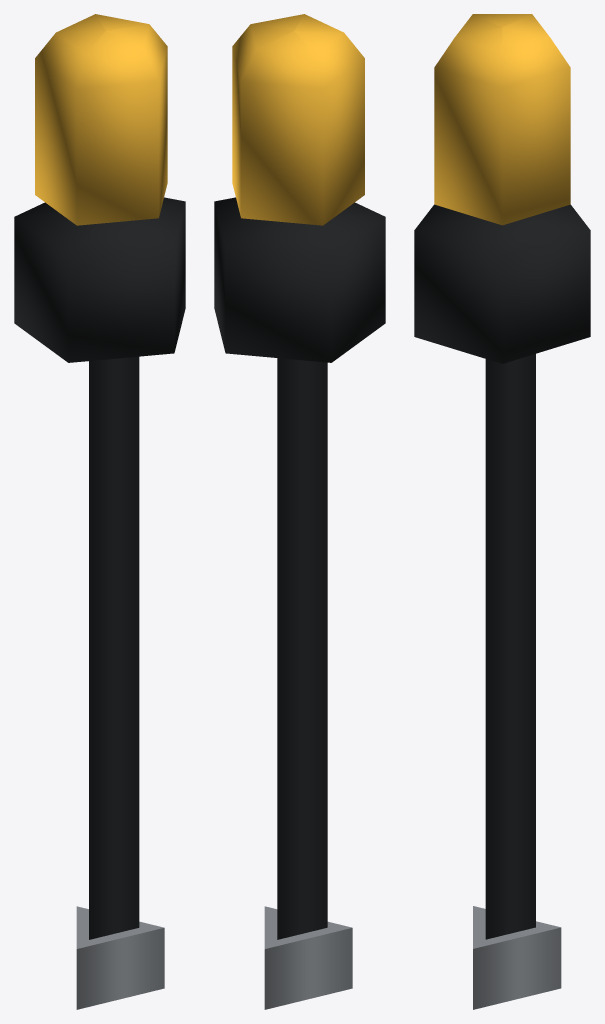
The model's file is mooring_light_LOD1.glb.
The picture shows the model from 3 angles, left to right: view 1: azimuth 30°, elevation 25°; view 2: azimuth 150°, elevation 25°; view 3: azimuth 270°, elevation 25°; orthographic projection.
Visible parts, largest first — view 1: CornerLight; view 2: CornerLight; view 3: CornerLight.
Part boxes in pixels (x1,y1,x2,y2): CornerLight: [14, 14, 185, 1009]; CornerLight: [214, 14, 385, 1009]; CornerLight: [414, 14, 590, 1009].
Bounding box in the file's own units: 0.199 × 1.26 × 0.2092.
